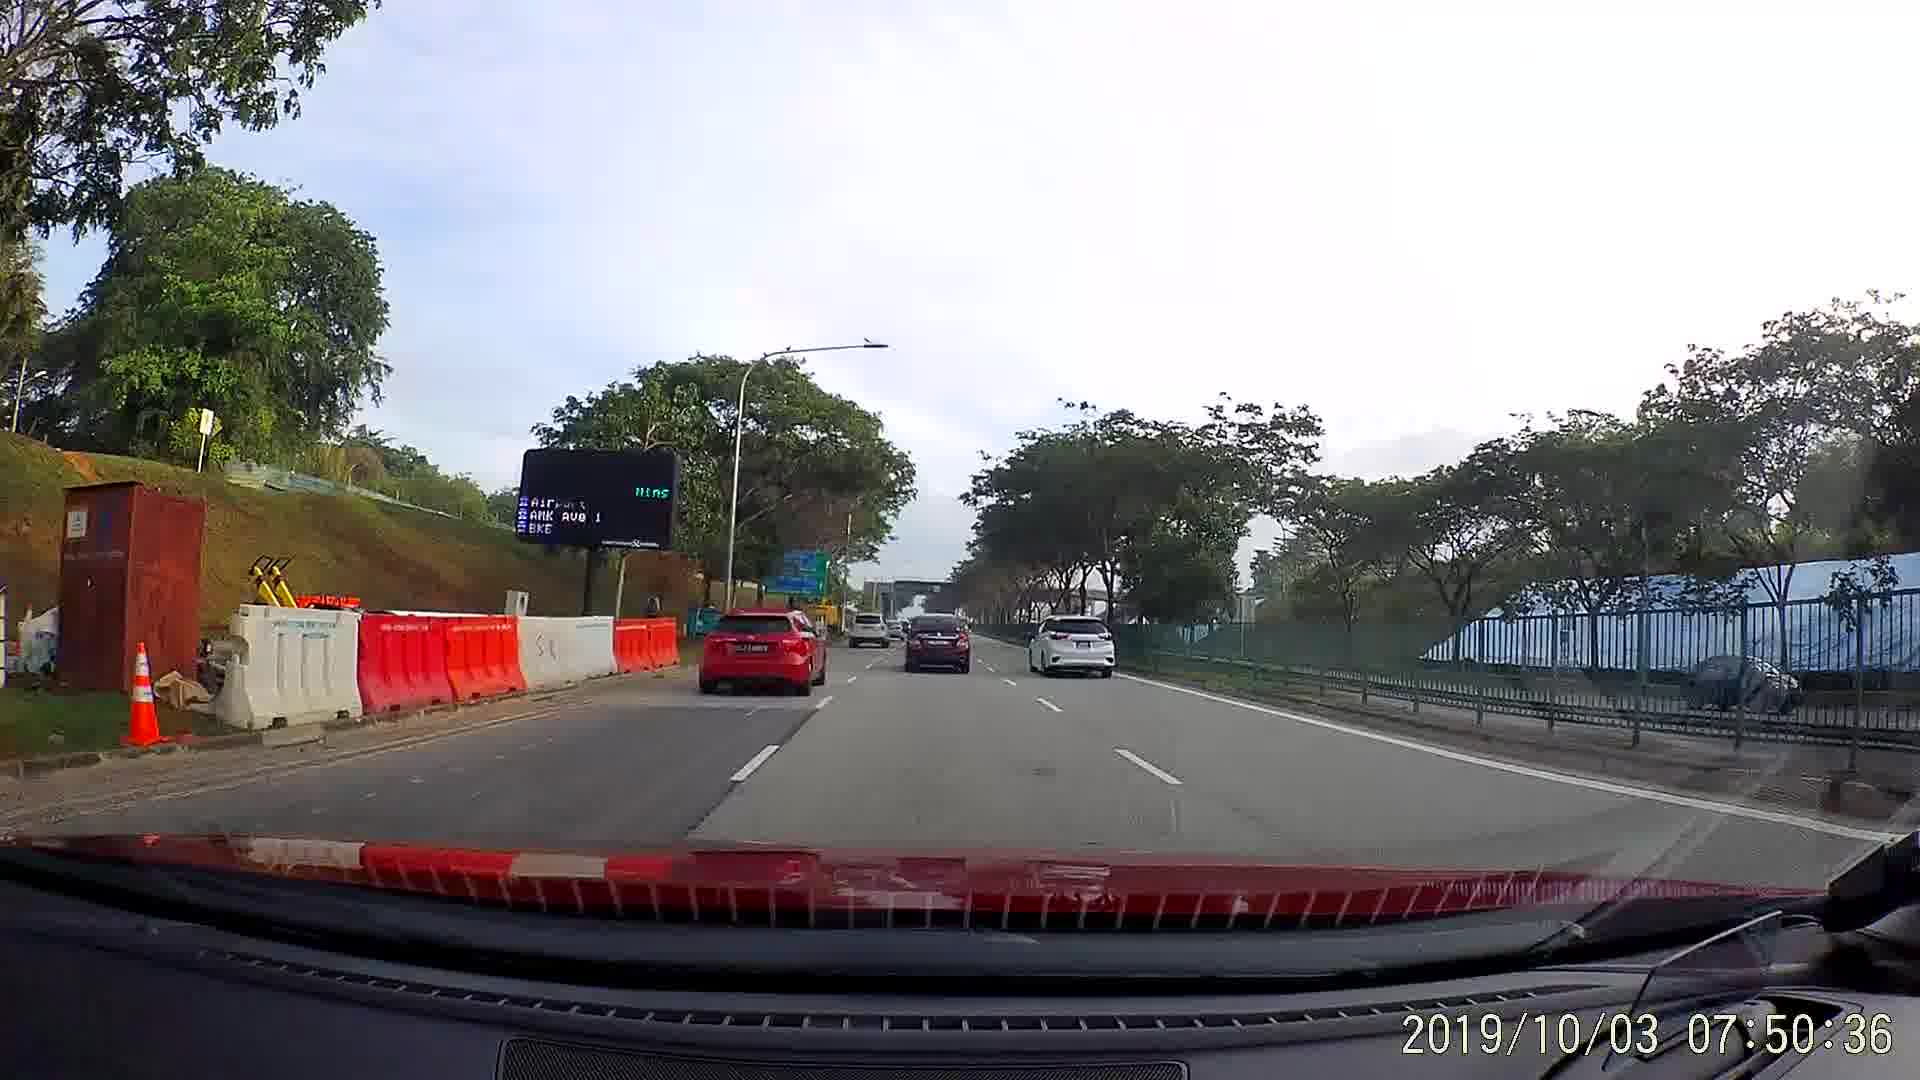car: (696, 604, 829, 699), (1681, 651, 1807, 716), (1025, 607, 1120, 684), (902, 611, 976, 679), (847, 609, 895, 651)
